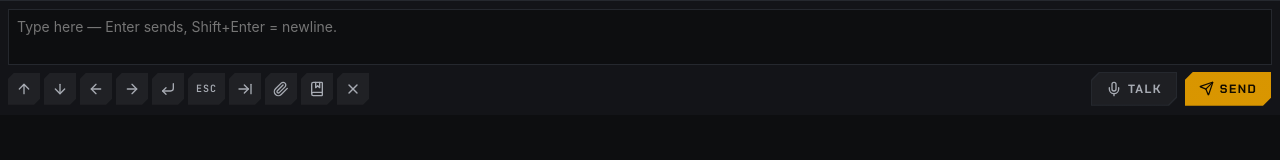
Test: a permission-denied error surfaces a note and leaves the mic idle (#483)
The width and height of the screenshot is (1280, 160).
Press the mouse on the button with aria-label "voice input" at point(1134, 89), box [1090,71,1178,107]
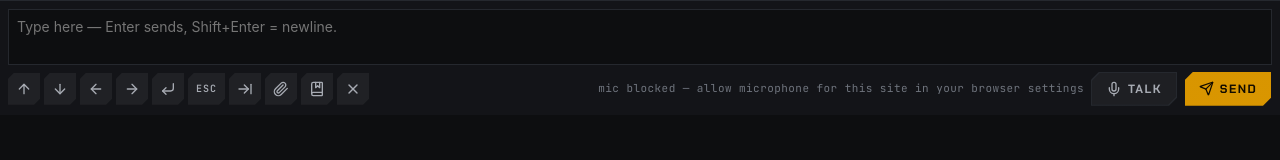
Expected: the text "allow microphone" is shown, [598,81,1084,95]
